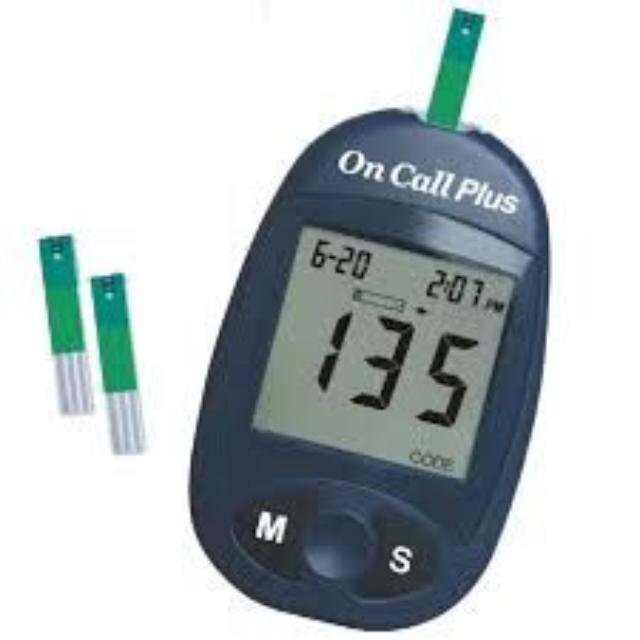Glucose-Meter: (191, 10, 545, 628)
